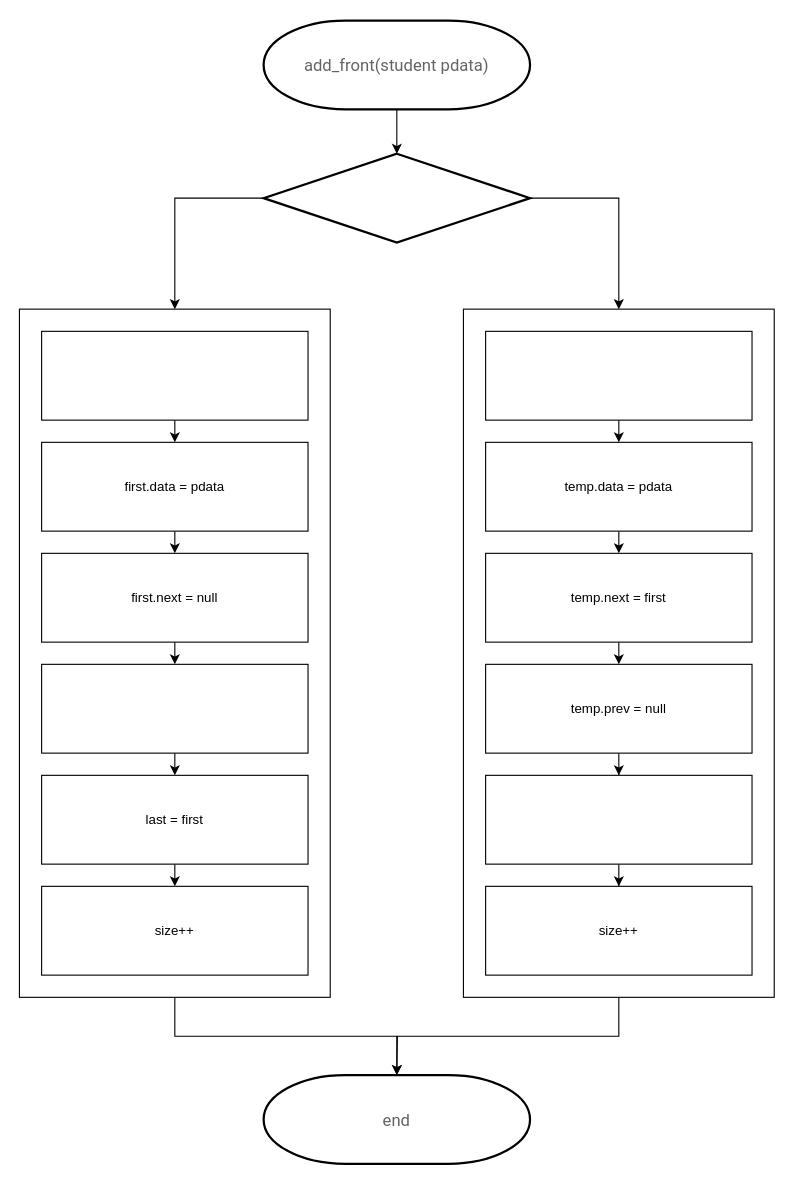
Image size: 794x1183. Some labels were removed from this diagram. Here are the shapes that lost their labels. From the top down, the centre of each, then its label:
(x=396, y=197): size == 0
(x=174, y=375): first = new node()
(x=618, y=375): node temp = new node()
(x=174, y=708): first.prev = null
(x=618, y=819): first.prev = temp
